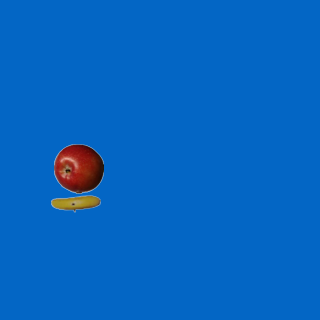Apple Braeburn: (53, 143, 103, 193)
Banana: (50, 178, 100, 228)
